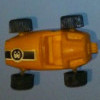naranja_oeste: (5, 16, 95, 89)
